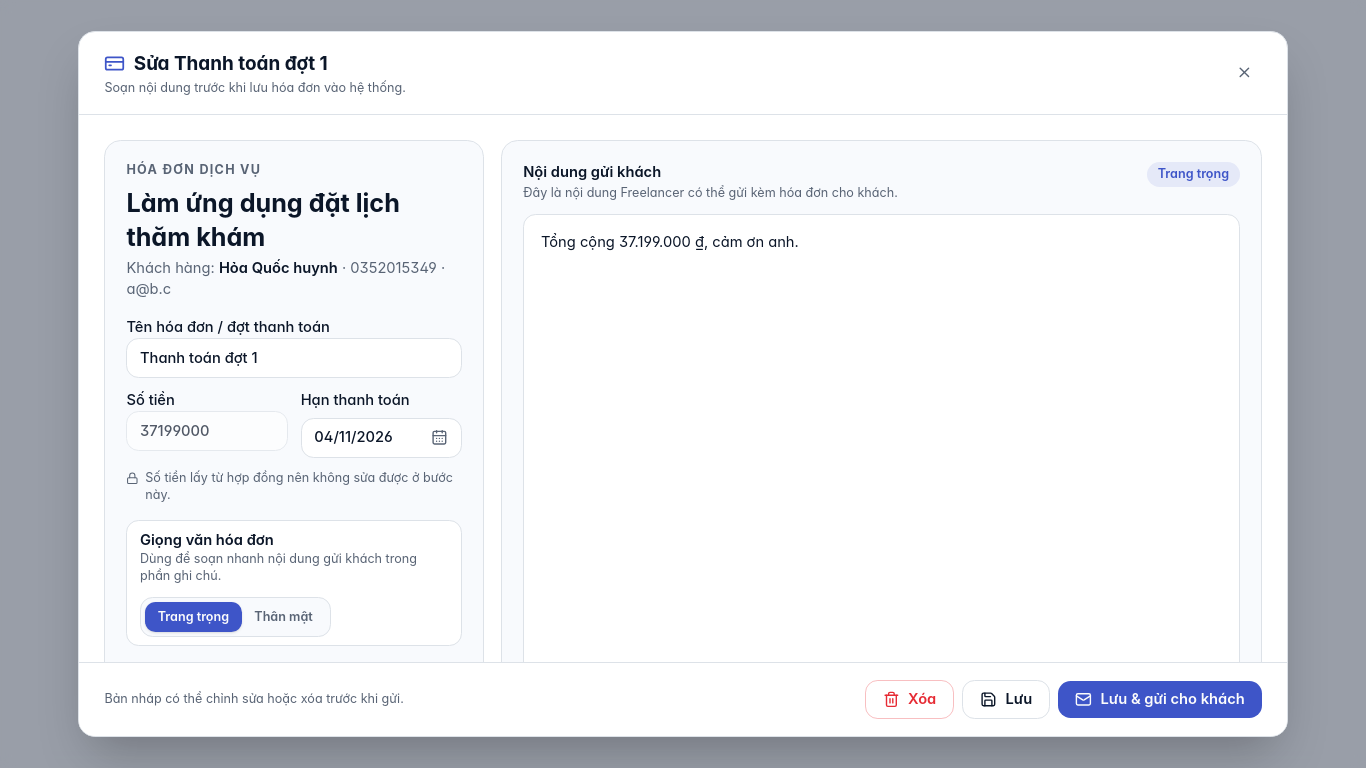
Test: bản nháp CŨ còn lời nhắn lệch giá: báo đỏ, chặn lưu, chặn gửi › gõ đúng số của hóa đơn thì không báo gì và gửi được
This screenshot has width=1366, height=768.
Click the button "Lưu & gửi cho khách" at [1160, 700], box [1058,681,1262,718]
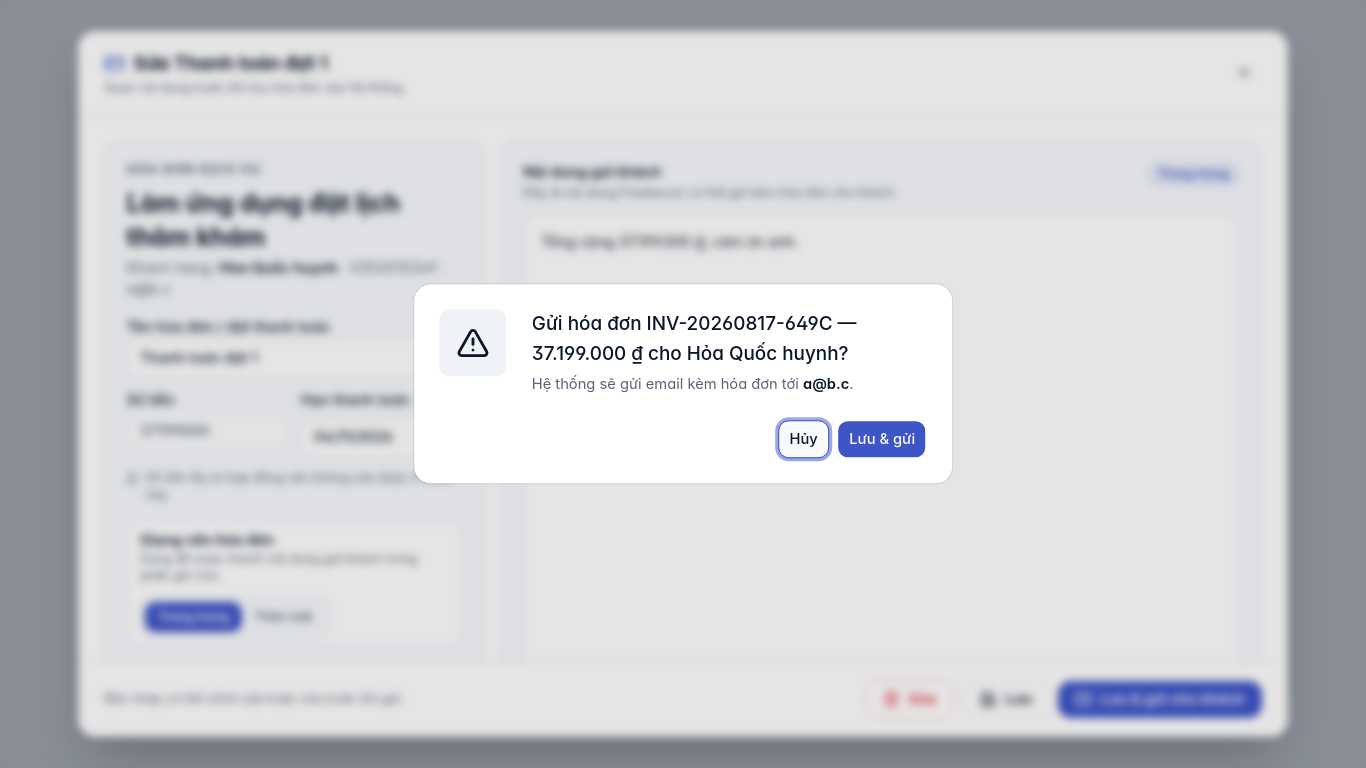
Result: the dialog is shown at [414,284,952,484]
